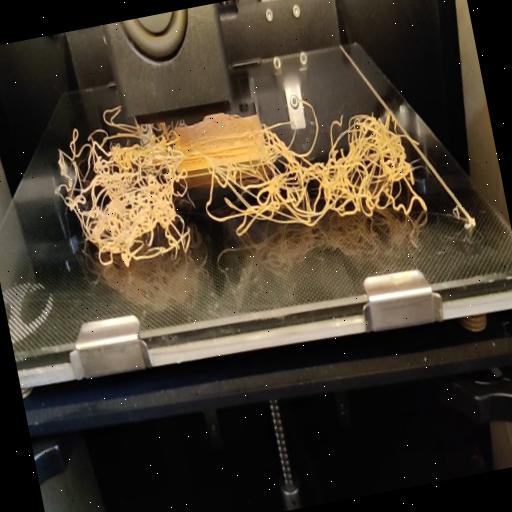spaghetti: (46, 71, 436, 288), (100, 104, 122, 132)
